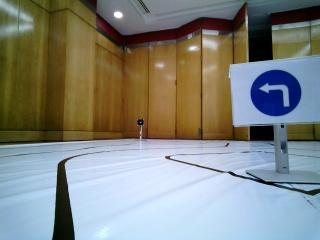left: (232, 56, 319, 128)
